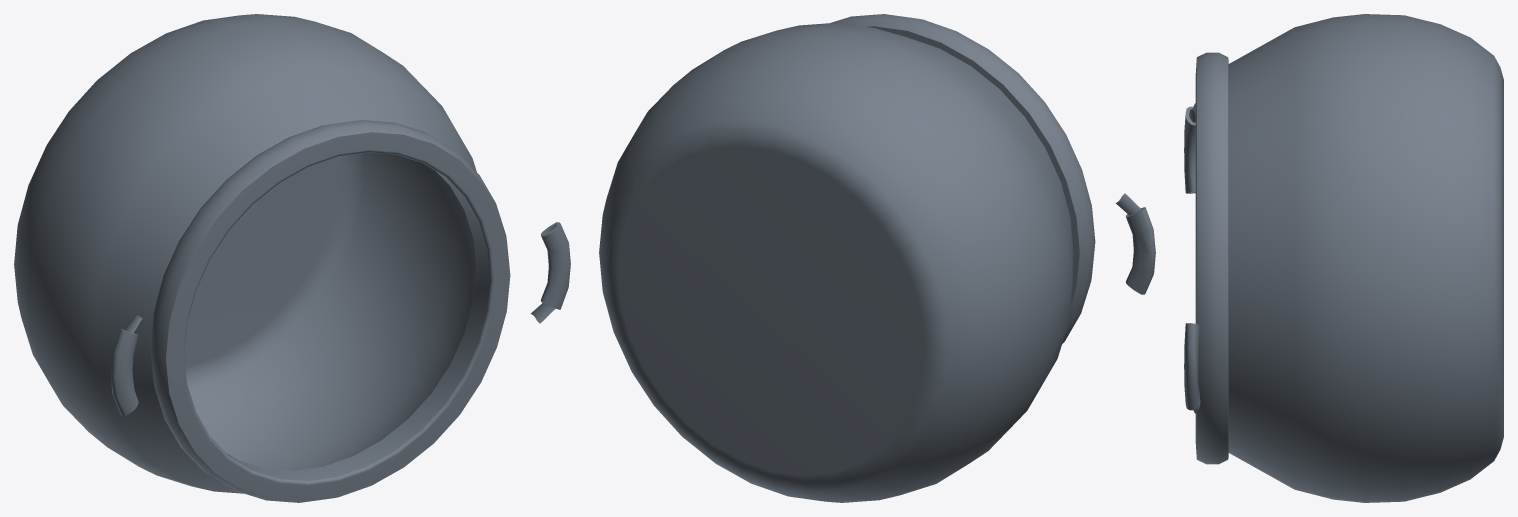
Rendered from MeshPot_3_0_GeomSubset_1.obj.
The picture shows the model from 3 angles, left to right: view 1: azimuth 30°, elevation 25°; view 2: azimuth 150°, elevation 25°; view 3: azimuth 270°, elevation 25°; orthographic projection.
Visible parts, largest first — view 1: MeshPot_3_0_GeomSubset_1; view 2: MeshPot_3_0_GeomSubset_1; view 3: MeshPot_3_0_GeomSubset_1.
Boxes of the visible parts, x1=… form: MeshPot_3_0_GeomSubset_1: x1=14, y1=14, x2=570, y2=502; MeshPot_3_0_GeomSubset_1: x1=599, y1=14, x2=1155, y2=502; MeshPot_3_0_GeomSubset_1: x1=1184, y1=14, x2=1503, y2=502.
Bounding box in the file's own units: 0.2882 × 0.2629 × 0.1717.
